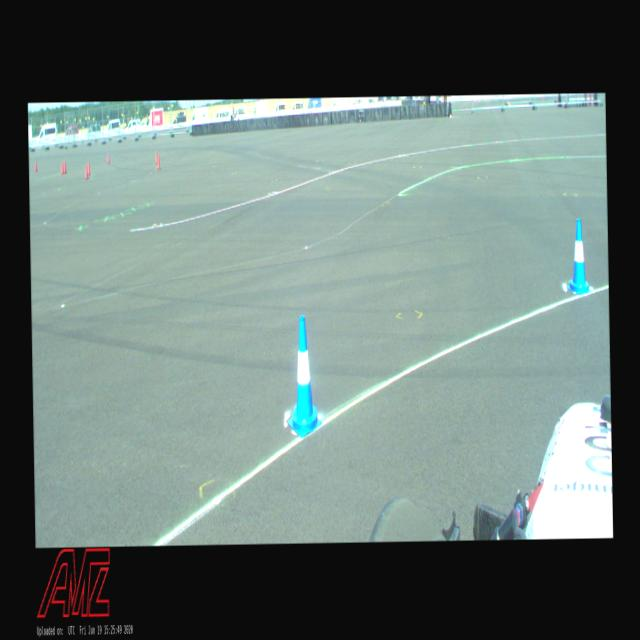blue_cone: (286, 314, 322, 438), (564, 218, 592, 294)
